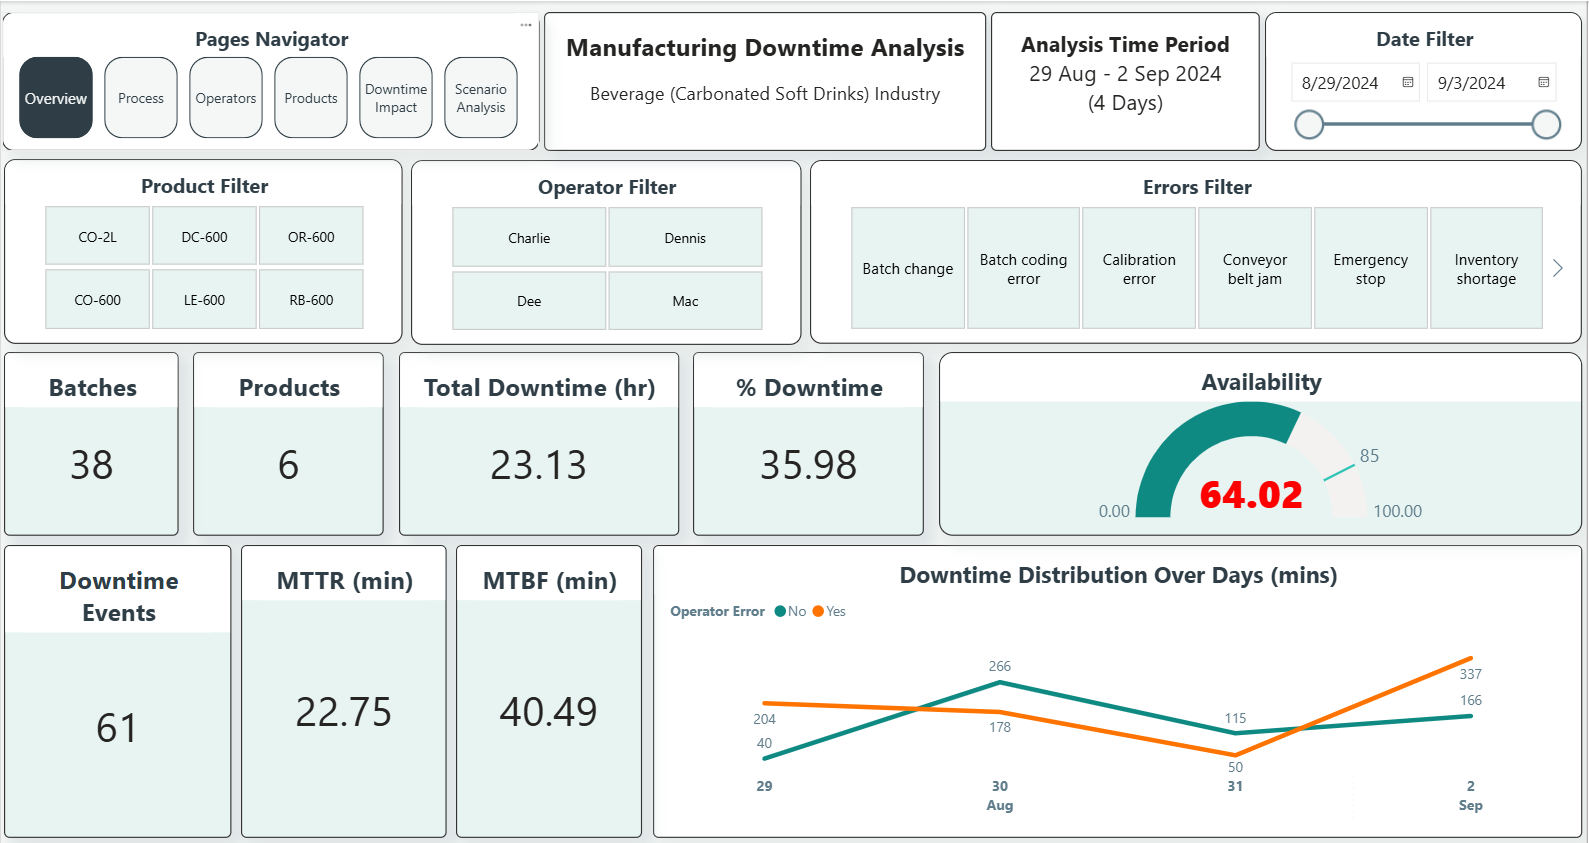

What the dashboard file says about the page in this screenshot:
{"tool":"powerbi","page":{"name":"Overview","canvas":[1380,740],"ordinal":0},"visuals":[{"type":"card","title":"Products","fields":{"Values":["CountNonNull(Products.Product)"]},"box":[167.6,305.5,165.9,160.1],"z":0},{"type":"card","title":"Total Downtime (hr)","fields":{"Values":["#Measures.Total Downtime (hr)"]},"box":[346.3,305.9,243.6,159.9],"z":1000},{"type":"card","title":"% Downtime","fields":{"Values":["Line downtime.downtime percentage"]},"box":[602.8,305.9,200.9,159.9],"z":2000},{"type":"card","title":"Batches","fields":{"Values":["#Measures.Number of Batches"]},"box":[2.3,305.5,152.4,160.1],"z":3000},{"type":"slicer","title":"Product Filter","fields":{"Values":["Products.Product"]},"box":[2.8,137.6,346.9,160.9],"z":4000},{"type":"slicer","title":"Operator Filter","fields":{"Values":["Line productivity.Operator"]},"box":[357.4,138.6,339.6,161.1],"z":5000},{"type":"textbox","box":[472.6,9.5,385.1,121.4],"z":6000},{"type":"textbox","box":[861.8,9.5,234.3,121.4],"z":7000},{"type":"lineChart","title":"Downtime Distribution Over Days (mins)","fields":{"Category":["DateTable.MonthShort","DateTable.Day"],"Series":["Downtime factors.Operator Error"],"Y":["#Measures.Total Downtime (min)"]},"box":[567.3,473.3,809,254.8],"z":8000},{"type":"slicer","title":"Date Filter","fields":{"Values":["Line productivity.Date"]},"box":[1100.2,9.5,276,121.4],"z":9000},{"type":"pageNavigator","title":"Pages Navigator","box":[0.9,9.5,467.6,121.4],"z":10000},{"type":"card","title":"Downtime Events","fields":{"Values":["#Measures.Downtime Events"]},"box":[2.8,473.3,185.1,254.8],"z":11000},{"type":"slicer","title":"Errors Filter","fields":{"Values":["Downtime factors.Description"]},"box":[703.9,138.6,672.3,159.9],"z":12000},{"type":"gauge","title":"Availability","fields":{"Y":["#Measures.Availability %"],"TargetValue":["#Measures.Target OEE"]},"box":[816.5,305.9,559.8,159.9],"z":13000},{"type":"card","title":"MTTR (min)","fields":{"Values":["#Measures.MTTR"]},"box":[198.5,473.3,175.8,254.8],"z":14000},{"type":"card","title":"MTBF (min)","fields":{"Values":["#Measures.MTBF"]},"box":[385,473.3,174.8,254.8],"z":15000}]}

Visuals, with their boxes in screenshot pixels (x1, y1, x2, y2), scaled from the page's 1380x740 canvas onto the 1589x843 screenshot:
"Products" card: (left=193, top=348, right=384, bottom=530)
"Total Downtime (hr)" card: (left=399, top=348, right=679, bottom=531)
"% Downtime" card: (left=694, top=348, right=925, bottom=531)
"Batches" card: (left=3, top=348, right=178, bottom=530)
"Product Filter" slicer: (left=3, top=157, right=403, bottom=340)
"Operator Filter" slicer: (left=412, top=158, right=803, bottom=341)
textbox: (left=544, top=11, right=988, bottom=149)
textbox: (left=992, top=11, right=1262, bottom=149)
"Downtime Distribution Over Days (mins)" lineChart: (left=653, top=539, right=1585, bottom=829)
"Date Filter" slicer: (left=1267, top=11, right=1585, bottom=149)
"Pages Navigator" pageNavigator: (left=1, top=11, right=539, bottom=149)
"Downtime Events" card: (left=3, top=539, right=216, bottom=829)
"Errors Filter" slicer: (left=811, top=158, right=1585, bottom=340)
"Availability" gauge: (left=940, top=348, right=1585, bottom=531)
"MTTR (min)" card: (left=229, top=539, right=431, bottom=829)
"MTBF (min)" card: (left=443, top=539, right=645, bottom=829)
